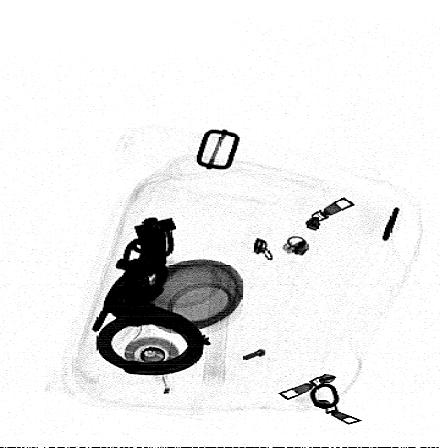HandCuffs: (89, 215, 214, 378)
